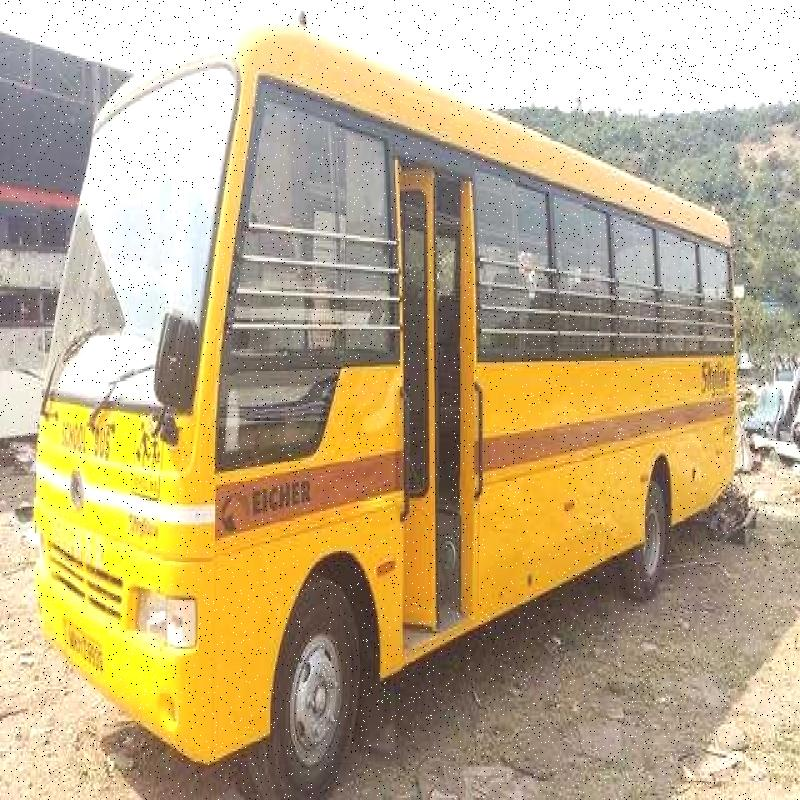bus: (34, 31, 750, 744)
